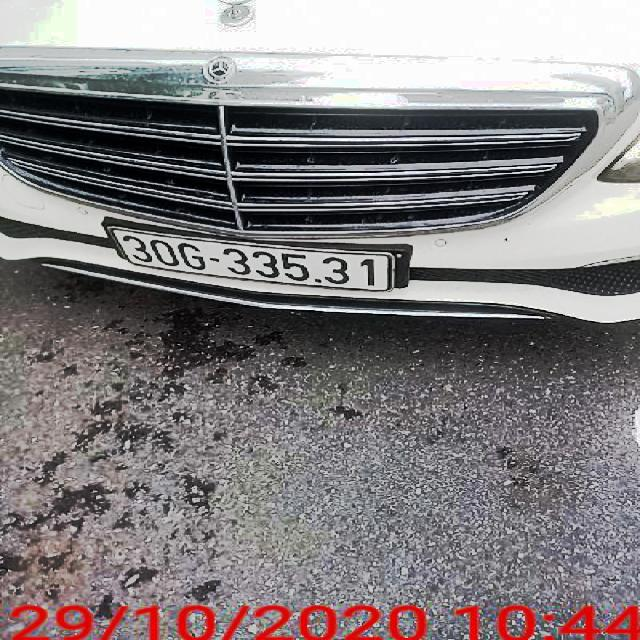license_plate: (111, 228, 393, 294)
